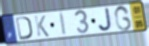3: (74, 8, 91, 36)
D: (15, 15, 33, 41)
G: (113, 5, 133, 32)
I: (58, 12, 68, 37)
J: (97, 7, 114, 33)
K: (33, 14, 51, 38)
